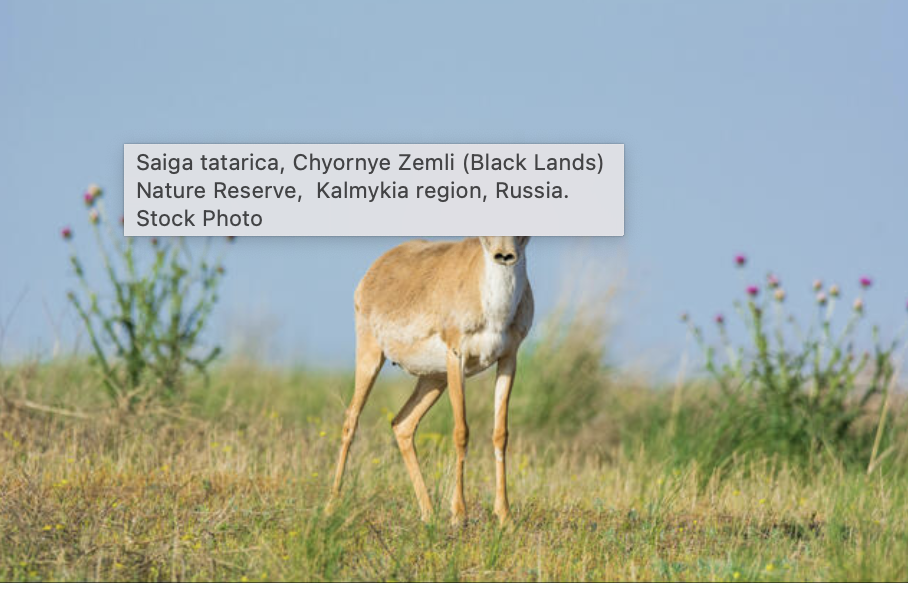saiga: (323, 220, 526, 525)
